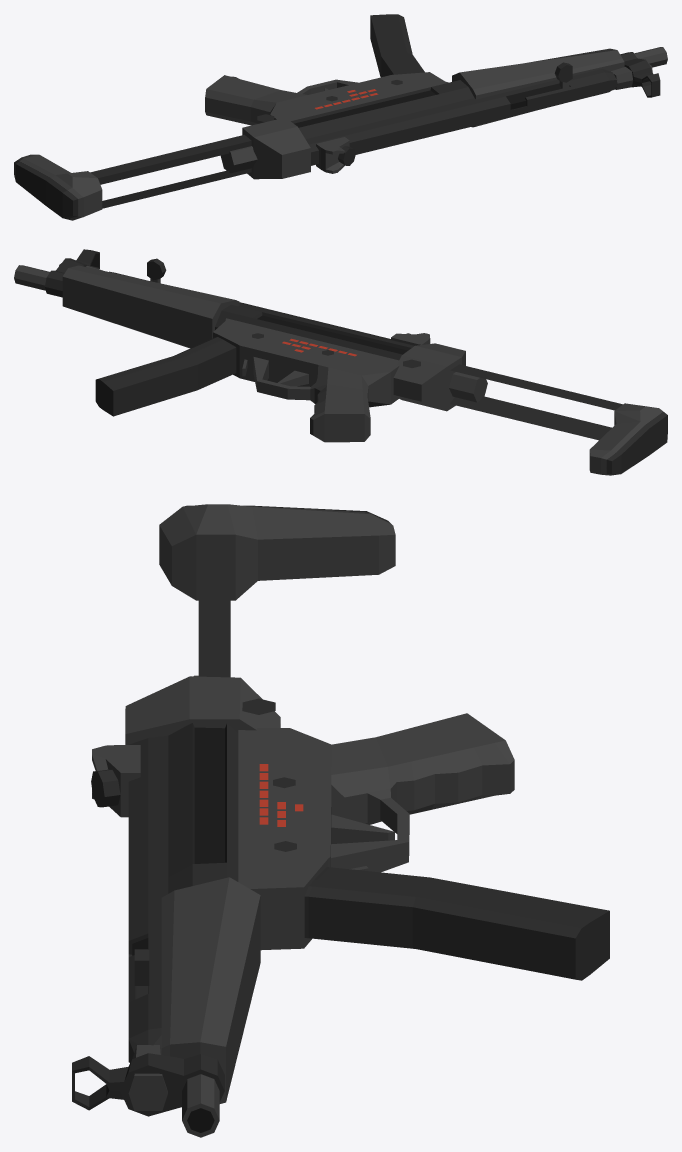
3 views of the same model, one above another, from view 1: azimuth 30°, elevation 25°; view 2: azimuth 150°, elevation 25°; view 3: azimuth 270°, elevation 25° (orthographic). The views are drawn at different scales.
Parts seen in each view (by area): view 1: Mp5LowPoly; view 2: Mp5LowPoly; view 3: Mp5LowPoly.
Part boxes in pixels (left/top/right/bottom): Mp5LowPoly: left=14, top=14, right=667, bottom=220; Mp5LowPoly: left=14, top=249, right=667, bottom=475; Mp5LowPoly: left=72, top=504, right=609, bottom=1137.
Size of the model in its own units: 0.7866 by 0.0696 by 0.3023.
Materials: 1 (1 with a texture image).
